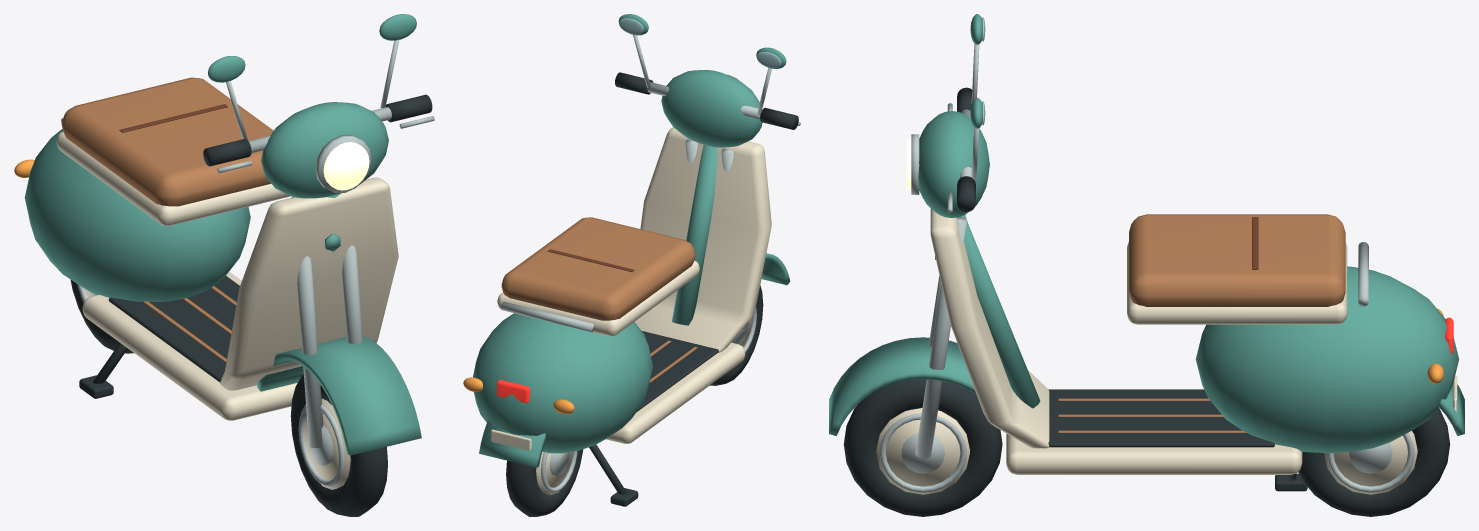
Rendered from scooter.glb.
3 views of the same model, side by side, from view 1: azimuth 30°, elevation 25°; view 2: azimuth 150°, elevation 25°; view 3: azimuth 270°, elevation 25° (orthographic). The views are drawn at different scales.
Parts seen in each view (by area): view 1: Scooter_Mint.001, Scooter_Cream.001, Scooter_Tan.001, Scooter_Rubber.001, Scooter_Chrome.001, Front_tire, Scooter_Lamp.001, Front_rim, Front_rim_ring, Rear_tire, Front_hub, Stand_foot (+2 smaller); view 2: Scooter_Mint.001, Scooter_Cream.001, Scooter_Tan.001, Scooter_Rubber.001, Scooter_Chrome.001, Rear_tire, Front_tire, Scooter_Mirror.001, Rear_rim, Scooter_Red.001, Scooter_Amber.001, Kickstand (+2 smaller); view 3: Scooter_Mint.001, Scooter_Cream.001, Scooter_Tan.001, Scooter_Rubber.001, Front_tire, Rear_tire, Scooter_Chrome.001, Front_rim, Rear_rim, Front_rim_ring.001, Front_hub, Rear_rim_ring.001 (+1 smaller).
Boxes of the visible parts, left/top/right/bottom form: Scooter_Mint.001: left=24, top=14, right=421, bottom=455; Scooter_Cream.001: left=56, top=131, right=398, bottom=420; Scooter_Tan.001: left=62, top=77, right=273, bottom=362; Scooter_Rubber.001: left=108, top=94, right=432, bottom=382; Scooter_Chrome.001: left=61, top=39, right=434, bottom=447; Front_tire: left=290, top=375, right=387, bottom=516; Scooter_Lamp.001: left=323, top=142, right=369, bottom=190; Front_rim: left=302, top=398, right=350, bottom=489; Front_rim_ring: left=298, top=404, right=344, bottom=486; Rear_tire: left=70, top=279, right=133, bottom=353; Front_hub: left=310, top=425, right=333, bottom=465; Stand_foot: left=79, top=375, right=113, bottom=398; Scooter_Mint.001: left=473, top=14, right=790, bottom=467; Scooter_Cream.001: left=491, top=127, right=771, bottom=450; Scooter_Tan.001: left=501, top=217, right=697, bottom=382; Scooter_Rubber.001: left=615, top=72, right=798, bottom=412; Scooter_Chrome.001: left=500, top=35, right=800, bottom=331; Rear_tire: left=506, top=449, right=583, bottom=516; Front_tire: left=710, top=285, right=763, bottom=385; Scooter_Mirror.001: left=619, top=18, right=781, bottom=68; Rear_rim: left=536, top=451, right=572, bottom=494; Scooter_Red.001: left=497, top=380, right=530, bottom=403; Scooter_Amber.001: left=463, top=377, right=574, bottom=413; Kickstand: left=589, top=444, right=627, bottom=494; Scooter_Mint.001: left=829, top=14, right=1464, bottom=453; Scooter_Cream.001: left=930, top=208, right=1457, bottom=474; Scooter_Tan.001: left=1058, top=214, right=1345, bottom=432; Scooter_Rubber.001: left=957, top=87, right=1274, bottom=447; Front_tire: left=843, top=379, right=1002, bottom=516; Rear_tire: left=1298, top=408, right=1450, bottom=516; Scooter_Chrome.001: left=911, top=43, right=1368, bottom=458; Front_rim: left=876, top=408, right=969, bottom=494; Rear_rim: left=1324, top=431, right=1417, bottom=494; Front_rim_ring.001: left=879, top=413, right=966, bottom=492; Front_hub: left=901, top=433, right=944, bottom=473; Rear_rim_ring.001: left=1327, top=433, right=1414, bottom=492.
Size of the model in its own units: 0.705 by 1.4 by 1.76.
